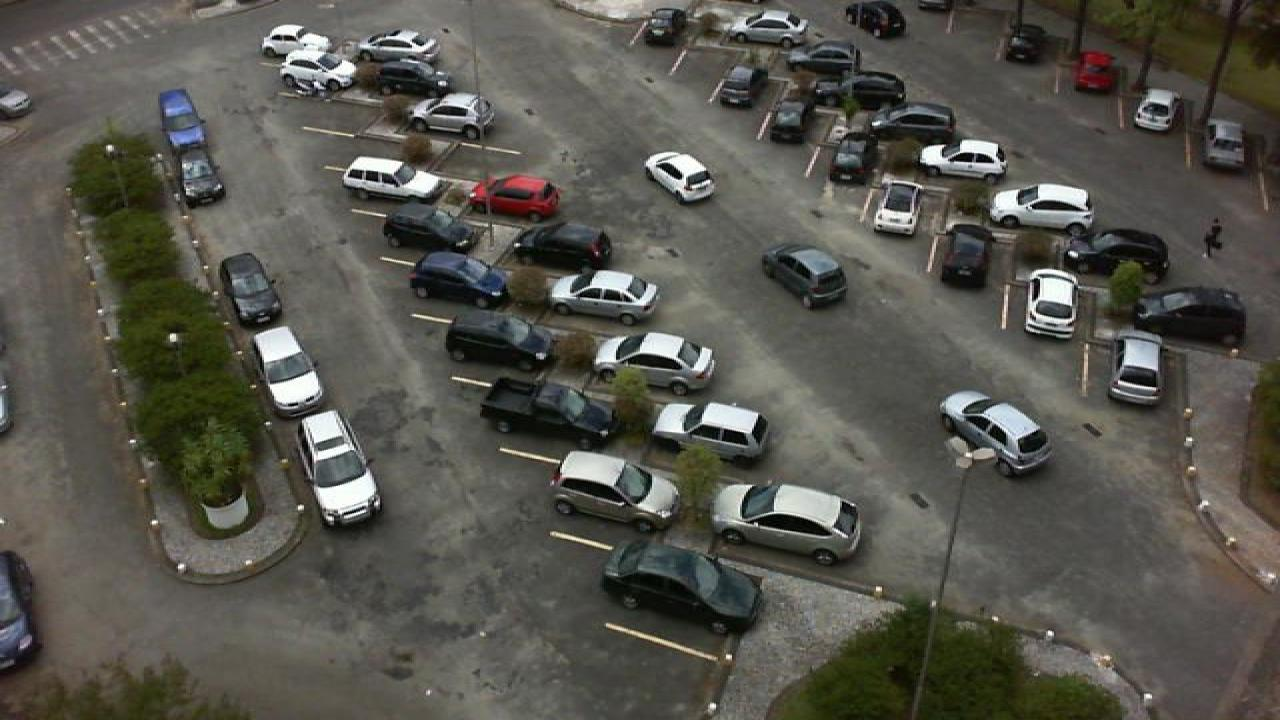Car: (598, 534, 764, 637), (706, 479, 862, 564), (548, 449, 682, 534), (476, 372, 622, 450), (292, 406, 384, 527), (936, 388, 1058, 478), (588, 328, 720, 396), (644, 398, 772, 460), (1130, 284, 1250, 348), (248, 324, 330, 416), (442, 305, 556, 370), (544, 267, 662, 325), (406, 248, 512, 307), (986, 181, 1096, 237), (1066, 225, 1172, 283), (380, 199, 484, 255), (510, 220, 616, 272), (218, 251, 286, 325), (338, 156, 446, 202), (866, 100, 962, 148), (1106, 331, 1168, 405), (406, 92, 498, 141), (468, 173, 564, 219), (1022, 269, 1082, 341), (914, 138, 1010, 182), (938, 223, 996, 288), (812, 72, 908, 111), (276, 49, 360, 92), (172, 144, 228, 207), (368, 58, 456, 98), (868, 179, 926, 237), (354, 28, 442, 66), (728, 10, 814, 48), (156, 86, 206, 148), (788, 38, 860, 78), (1202, 117, 1256, 170), (842, 0, 908, 39), (260, 22, 330, 57), (1072, 48, 1124, 94), (1132, 88, 1182, 132), (824, 136, 868, 185), (1000, 22, 1050, 64), (764, 99, 810, 144), (640, 6, 688, 47), (716, 66, 760, 110)
